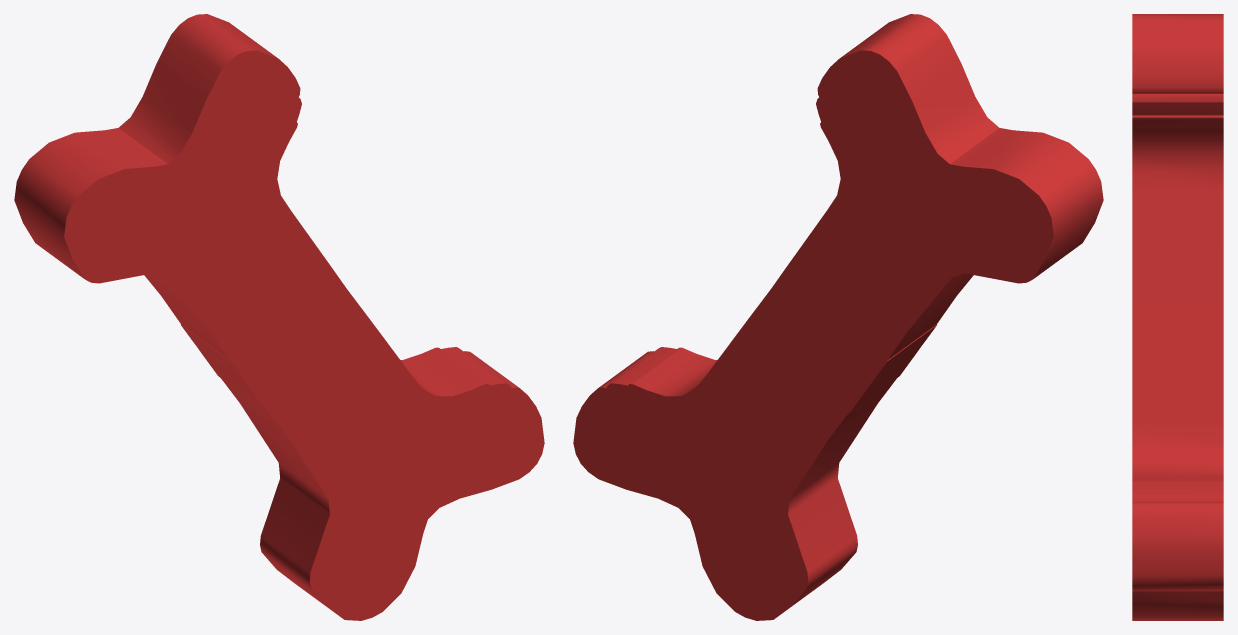
The model's file is funny_bone_body.obj.
3 views of the same model, side by side, from view 1: azimuth 30°, elevation 25°; view 2: azimuth 150°, elevation 25°; view 3: azimuth 270°, elevation 25° (orthographic). The views are drawn at different scales.
Visible parts, largest first — view 1: funny_bone_visual; view 2: funny_bone_visual; view 3: funny_bone_visual.
Part boxes in pixels (x1,y1,x2,y2): funny_bone_visual: (14, 14, 544, 620); funny_bone_visual: (573, 14, 1103, 620); funny_bone_visual: (1132, 14, 1223, 620).
Size of the model in its own units: 0.0111 by 0.0132 by 0.002.
